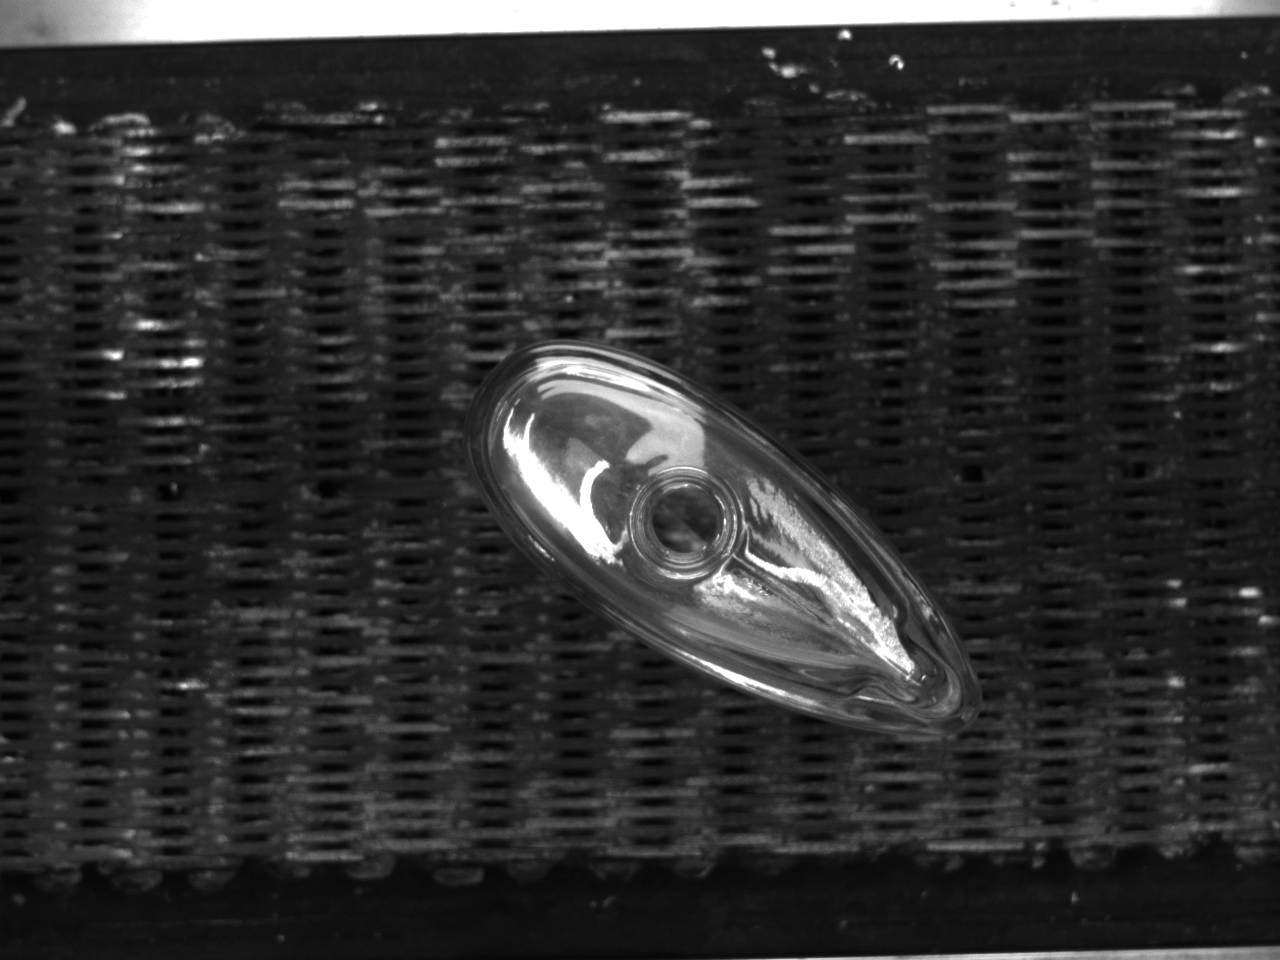bottleneck: (631, 467, 742, 578)
